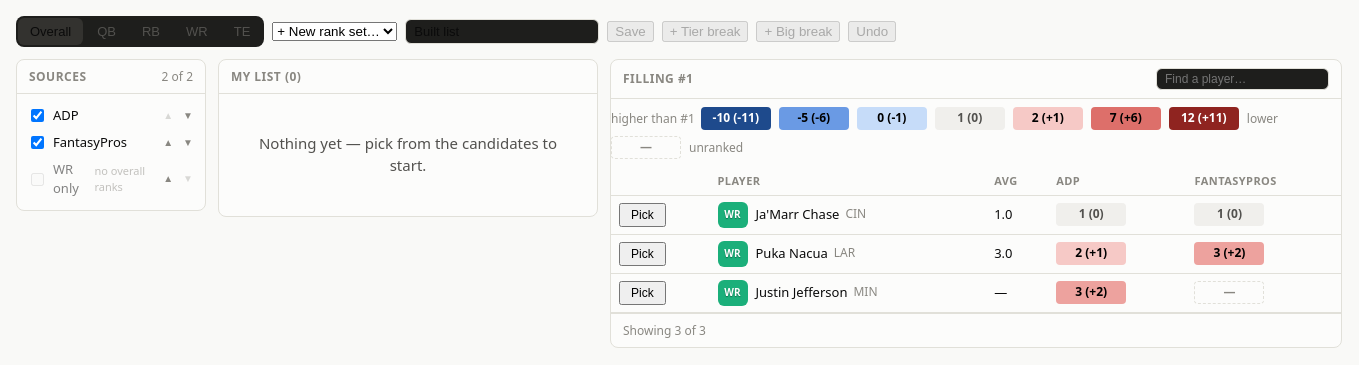
Test case: BuildPage › undo reverses a pick exactly
This screenshot has width=1359, height=365.
Expected: the text "Ja'Marr Chase" is shown, [756,204,840,222]
Expected: the column heading "FantasyPros" is shown, [1186,167,1341,195]
Click the button "Pick" in the row of "Ja'Marr Chase": (642, 214) [619,202,666,226]
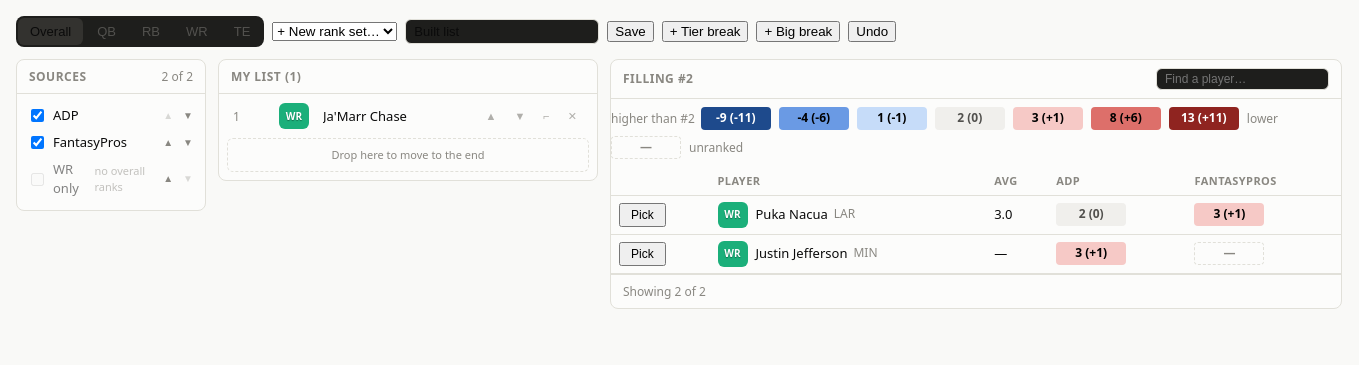
Expected: the text "Filling #2" is shown, [623,70,694,88]
Click the button "Undo": (872, 32) [848,21,896,42]
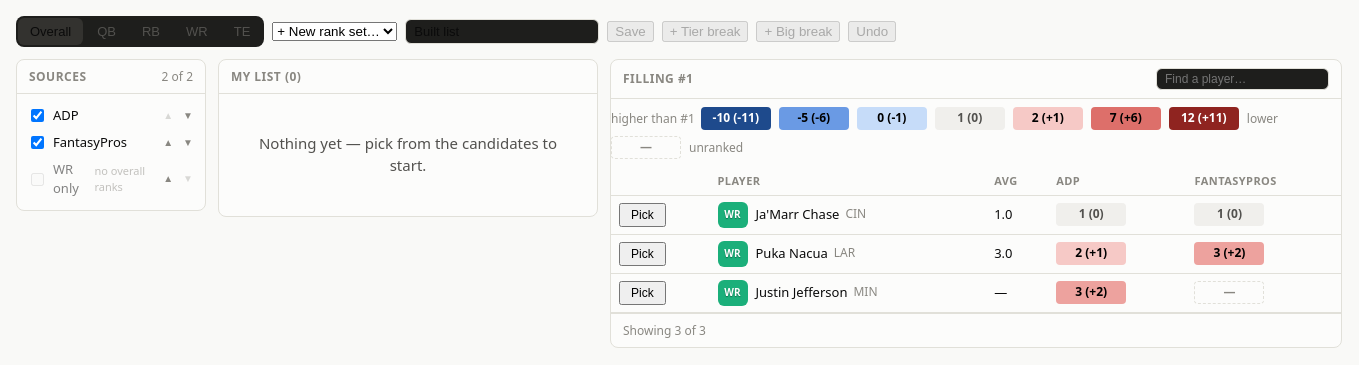
Expected: the text "Filling #1" is shown, [623,70,694,88]
Expected: the text "My list (0)" is shown, [219,60,597,94]
Expected: the number of buttons "Pick" is 3, [619,202,666,226]; [619,242,666,266]; [619,280,666,304]
